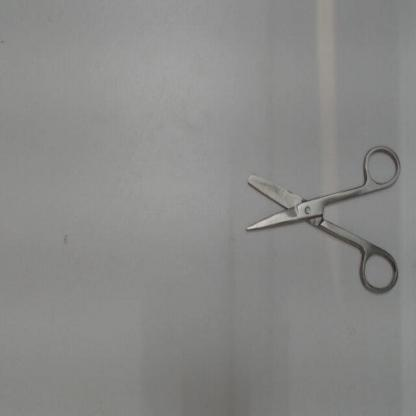Dressing Scissors: (235, 136, 406, 304)
